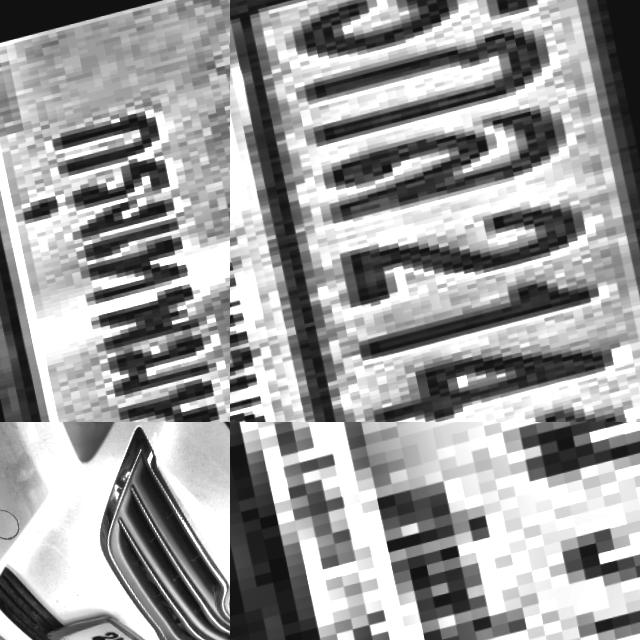license-plate: (230, 0, 640, 422), (0, 0, 230, 422), (230, 422, 640, 640), (38, 596, 203, 640)
